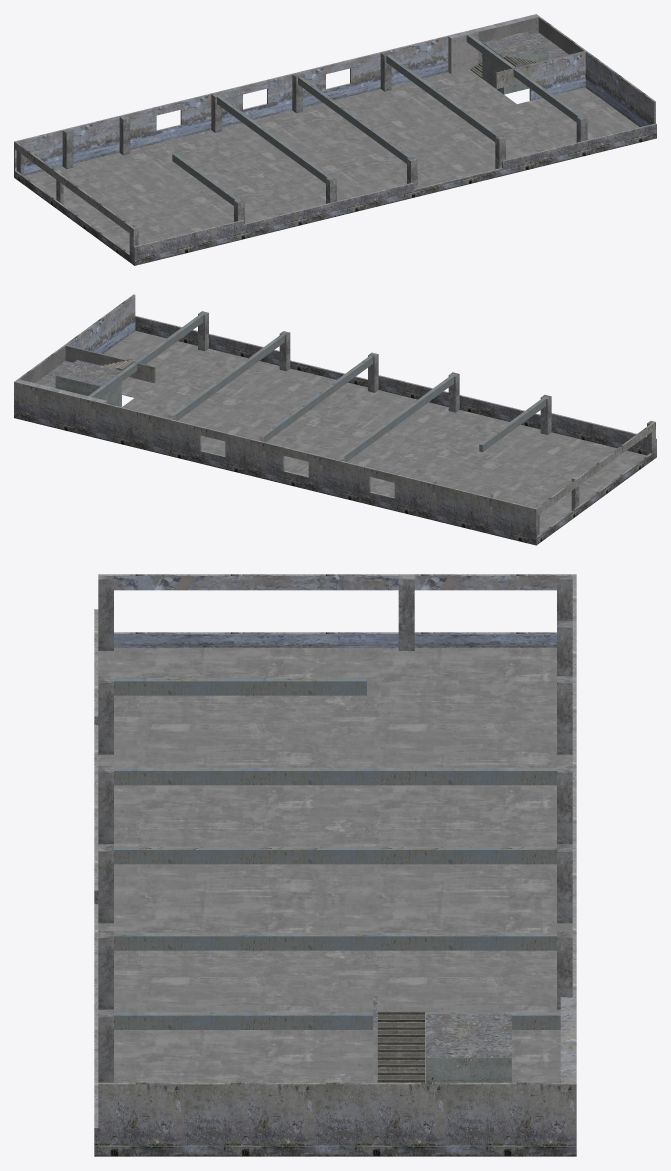
The model's file is Broken_House_03_Part.FBX.
3 views of the same model, one above another, from view 1: azimuth 30°, elevation 25°; view 2: azimuth 150°, elevation 25°; view 3: azimuth 270°, elevation 25° (orthographic). The views are drawn at different scales.
Visible parts, largest first — view 1: Broken_House_03Floor_floor, Broken_House_03Floor_a, Broken_House_03Floor_rig, Broken_House_03Floor_walls, Broken_House_03Floor_column; view 2: Broken_House_03Floor_floor, Broken_House_03Floor_a, Broken_House_03Floor_rig, Broken_House_03Floor_walls, Broken_House_03Floor_column; view 3: Broken_House_03Floor_floor, Broken_House_03Floor_a, Broken_House_03Floor_rig, Broken_House_03Floor_column, Broken_House_03Floor_walls, Broken_House_03Floor_stair.
Part boxes in pixels (x1,y1,x2,y2): Broken_House_03Floor_floor: (24,70,639,253); Broken_House_03Floor_a: (14,14,656,265); Broken_House_03Floor_rig: (172,34,581,205); Broken_House_03Floor_walls: (482,31,585,100); Broken_House_03Floor_column: (16,51,587,245); Broken_House_03Floor_floor: (104,330,646,533); Broken_House_03Floor_a: (14,294,656,545); Broken_House_03Floor_rig: (88,314,545,461); Broken_House_03Floor_walls: (35,345,155,407); Broken_House_03Floor_column: (165,311,653,535); Broken_House_03Floor_floor: (98,647,572,1082); Broken_House_03Floor_a: (94,574,576,1156); Broken_House_03Floor_rig: (114,678,560,1029); Broken_House_03Floor_column: (98,576,572,1082); Broken_House_03Floor_walls: (373,995,511,1082); Broken_House_03Floor_stair: (377,1011,425,1082).
Bounding box in the file's own units: 2747 × 195 × 1098.
